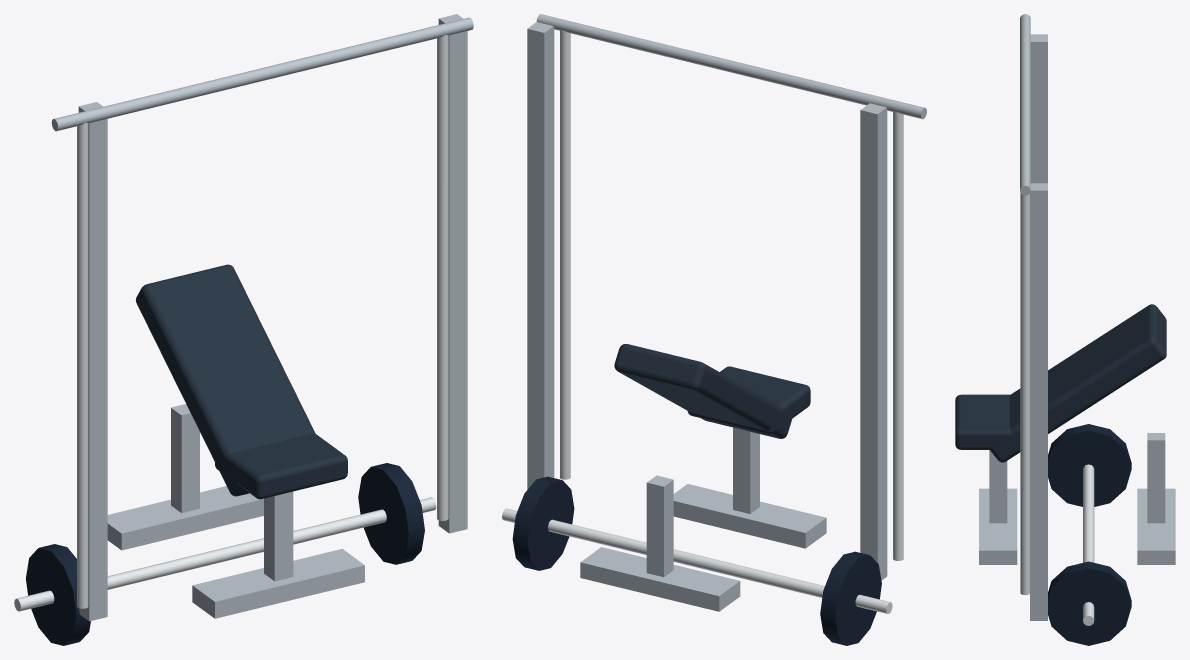
File: smith_incline.glb
3 views of the same model, side by side, from view 1: azimuth 30°, elevation 25°; view 2: azimuth 150°, elevation 25°; view 3: azimuth 270°, elevation 25° (orthographic). The views are drawn at different scales.
Visible parts, largest first — view 1: smithUpright (×2), seat, smithGuide (×2), benchFoot (×2), barbell_plate (×2), smithCross, seatPad, benchLeg (×2), barbell; view 2: smithUpright (×2), benchFoot (×2), smithGuide (×2), barbell_plate (×2), seat, benchLeg (×2), smithCross, barbell, seatPad; view 3: smithUpright (×2), barbell_plate (×2), seat, benchFoot (×2), smithGuide, seatPad, benchLeg (×2), smithCross, barbell.
Boxes of the visible parts, bbox=[...] form: smithUpright (×2): bbox=[78, 14, 467, 621]; seat: bbox=[135, 264, 315, 496]; smithGuide (×2): bbox=[77, 35, 448, 608]; benchFoot (×2): bbox=[107, 486, 364, 618]; barbell_plate (×2): bbox=[26, 463, 424, 645]; smithCross: bbox=[51, 17, 473, 131]; seatPad: bbox=[215, 433, 347, 499]; benchLeg (×2): bbox=[171, 404, 293, 581]; barbell: bbox=[14, 497, 436, 611]; smithUpright (×2): bbox=[527, 22, 887, 580]; benchFoot (×2): bbox=[580, 484, 826, 611]; smithGuide (×2): bbox=[560, 30, 903, 560]; barbell_plate (×2): bbox=[512, 476, 881, 645]; seat: bbox=[614, 344, 792, 438]; benchLeg (×2): bbox=[646, 427, 759, 577]; smithCross: bbox=[536, 14, 926, 119]; barbell: bbox=[502, 508, 892, 613]; seatPad: bbox=[687, 366, 810, 434]; smithUpright (×2): bbox=[1030, 34, 1047, 620]; barbell_plate (×2): bbox=[1048, 424, 1131, 645]; seat: bbox=[990, 304, 1166, 462]; benchFoot (×2): bbox=[979, 488, 1175, 564]; smithGuide: bbox=[1020, 193, 1029, 595]; seatPad: bbox=[955, 394, 1020, 449]; benchLeg (×2): bbox=[989, 433, 1165, 523]; smithCross: bbox=[1020, 14, 1030, 195]; barbell: bbox=[1083, 464, 1094, 625].
Size of the model in its own units: 1.8 by 2.31 by 0.975.
